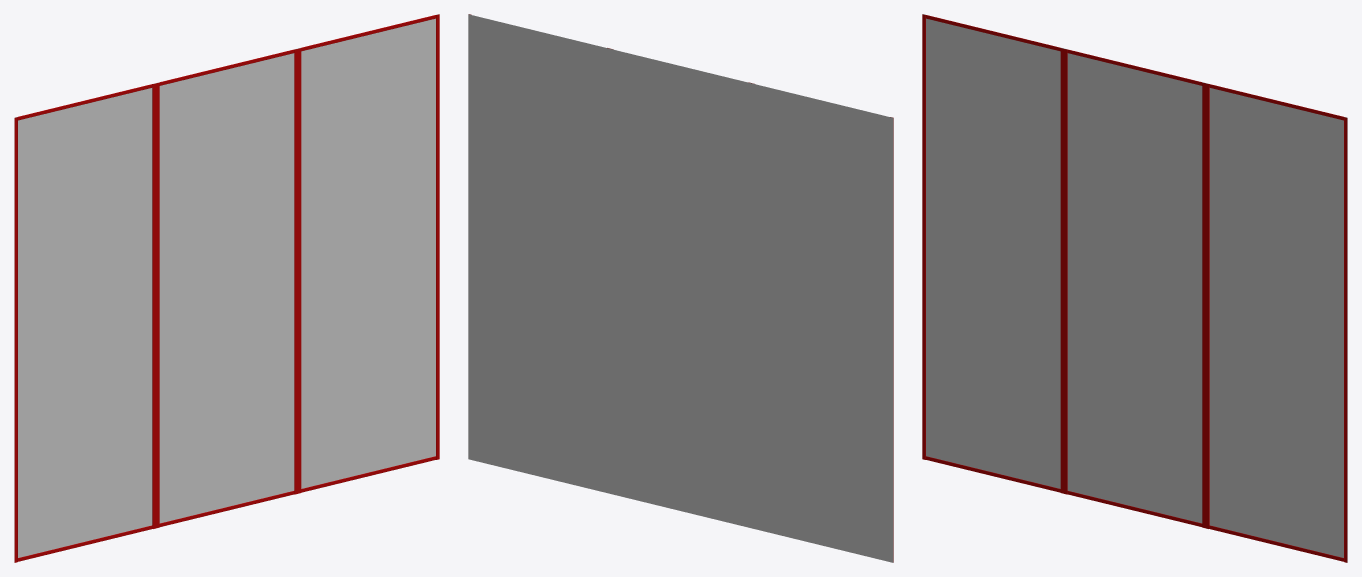
The model's file is Wall02.fbx.
3 views of the same model, side by side, from view 1: azimuth 30°, elevation 25°; view 2: azimuth 150°, elevation 25°; view 3: azimuth 330°, elevation 25° (orthographic).
Visible parts, largest first — view 1: Wall02; view 2: Wall02; view 3: Wall02.
Boxes of the visible parts, bbox=[...] form: Wall02: bbox=[14, 14, 439, 562]; Wall02: bbox=[468, 14, 893, 562]; Wall02: bbox=[922, 14, 1347, 562].
Size of the model in its own units: 300 by 300 by 0.348.
